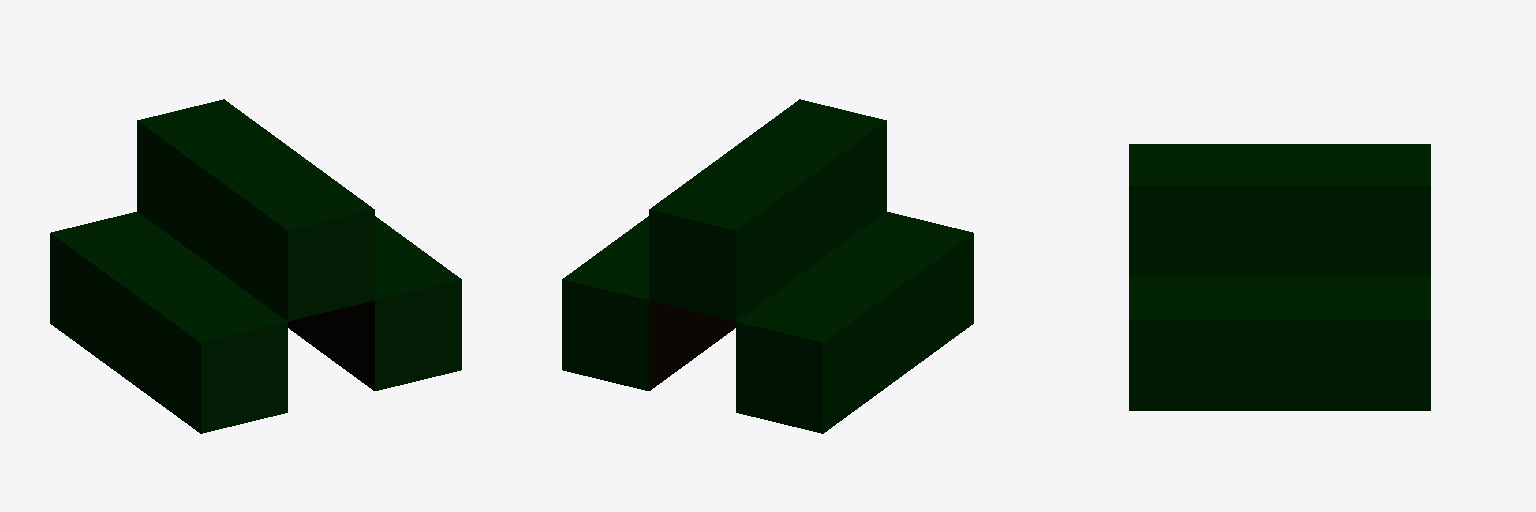
Rendered from tent_blend_12.obj.
3 views of the same model, side by side, from view 1: azimuth 30°, elevation 25°; view 2: azimuth 150°, elevation 25°; view 3: azimuth 270°, elevation 25° (orthographic).
Visible parts, largest first — view 1: tent; view 2: tent; view 3: tent.
Part boxes in pixels (x1,y1,x2,y2): tent: (50, 99, 461, 433); tent: (562, 99, 973, 433); tent: (1129, 144, 1430, 410).
Size of the model in its own units: 1.5 by 1 by 1.5.